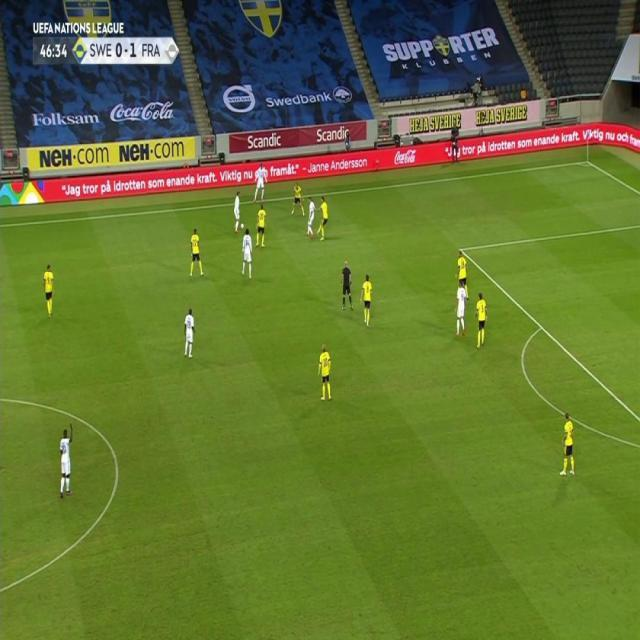ball: (240, 223, 244, 231)
player: (453, 250, 469, 339), (56, 425, 75, 498), (558, 410, 577, 479), (317, 342, 334, 403), (473, 291, 490, 348), (188, 226, 205, 279), (41, 263, 57, 318), (358, 273, 374, 328), (182, 306, 198, 360), (240, 226, 254, 281), (253, 163, 269, 202), (317, 195, 330, 242), (255, 203, 268, 249), (232, 190, 244, 232), (305, 198, 317, 239), (291, 182, 305, 215)
referee: (339, 257, 355, 314)
